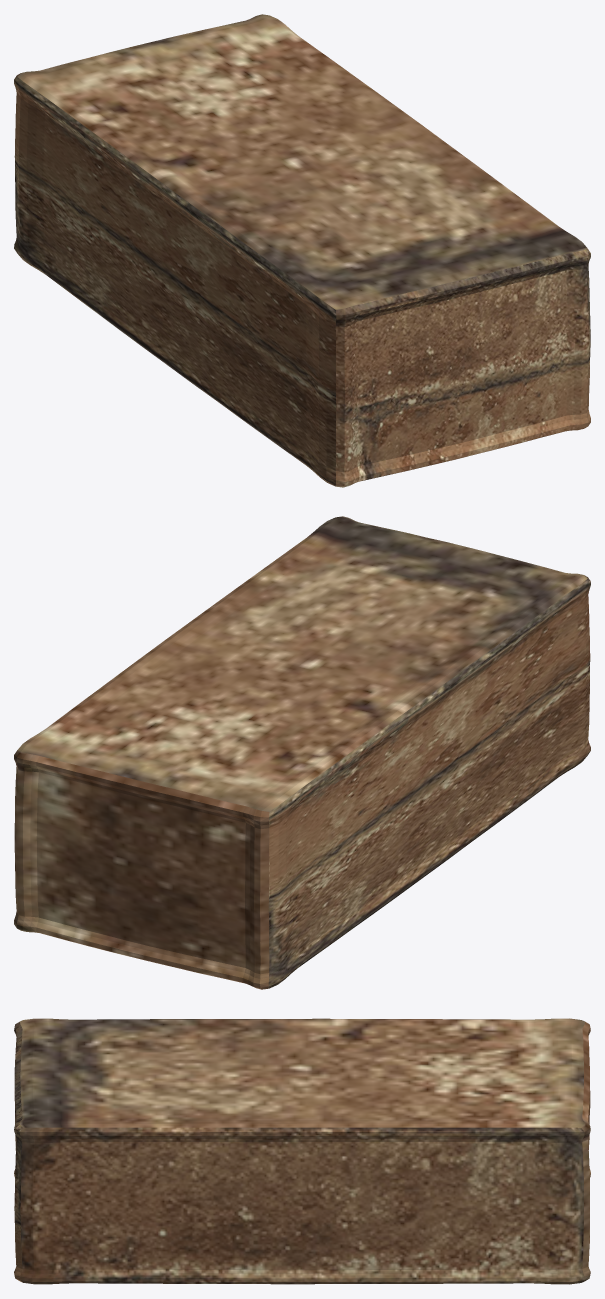
File: Ladrillo.fbx
The picture shows the model from 3 angles, top to bottom: view 1: azimuth 30°, elevation 25°; view 2: azimuth 150°, elevation 25°; view 3: azimuth 270°, elevation 25°; orthographic projection. The views are drawn at different scales.
Visible parts, largest first — view 1: Ladrillo.005; view 2: Ladrillo.005; view 3: Ladrillo.005.
Boxes of the visible parts, left/top/right/bottom form: Ladrillo.005: left=14, top=14, right=590, bottom=487; Ladrillo.005: left=14, top=516, right=590, bottom=989; Ladrillo.005: left=14, top=1018, right=590, bottom=1284.
Size of the model in its own units: 151 by 101 by 331.
